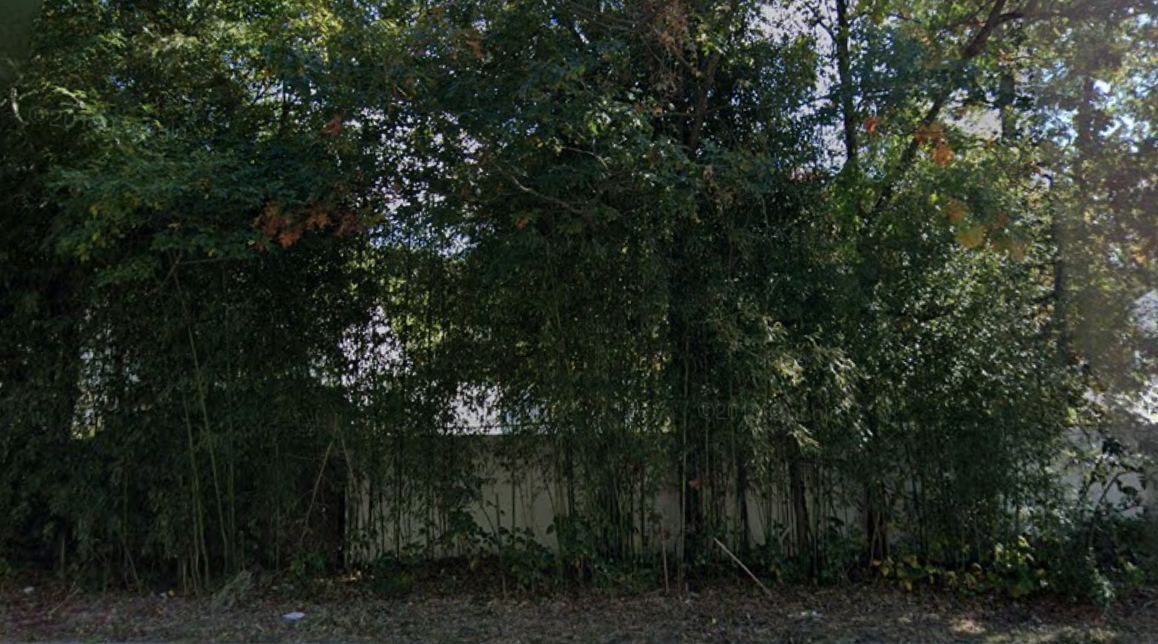bamboo: (362, 9, 757, 589), (7, 12, 342, 589), (774, 167, 989, 577)
